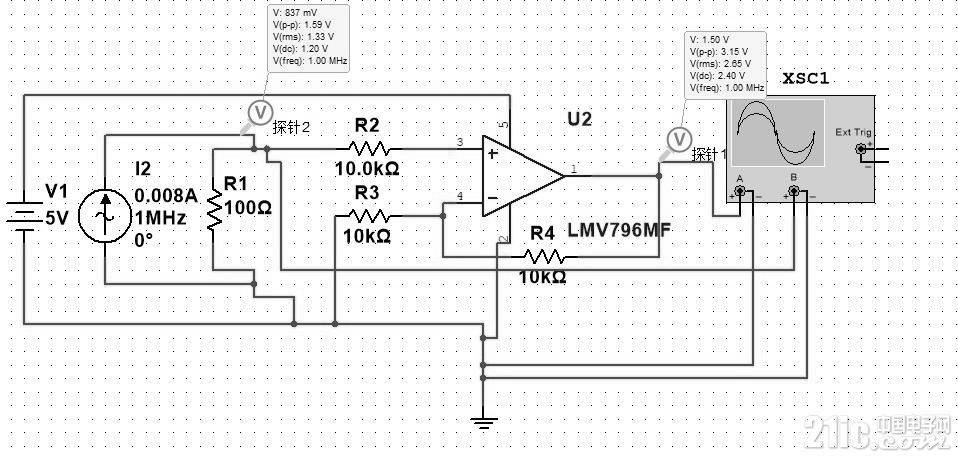amplifier: (477, 132, 571, 219)
gnd: (466, 414, 498, 432)
power1: (69, 185, 137, 246)
power2: (1, 194, 44, 240)
res2: (516, 247, 570, 267), (205, 184, 224, 236), (345, 139, 394, 158), (345, 207, 395, 225)
